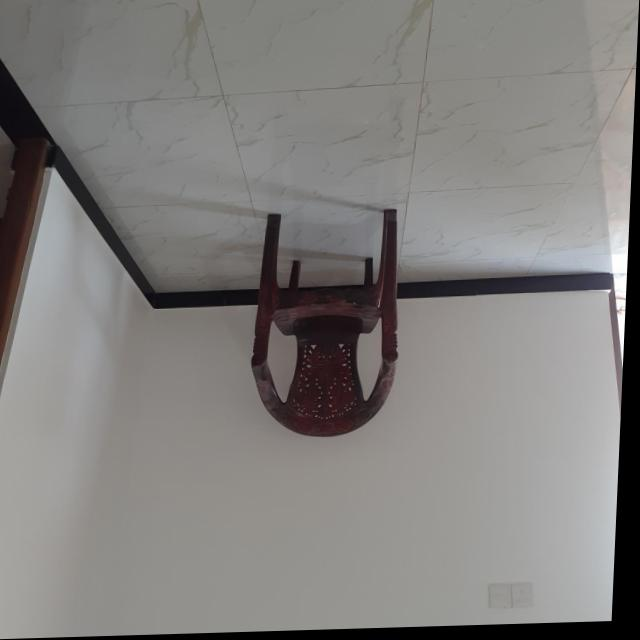Chair: (252, 208, 406, 443)
